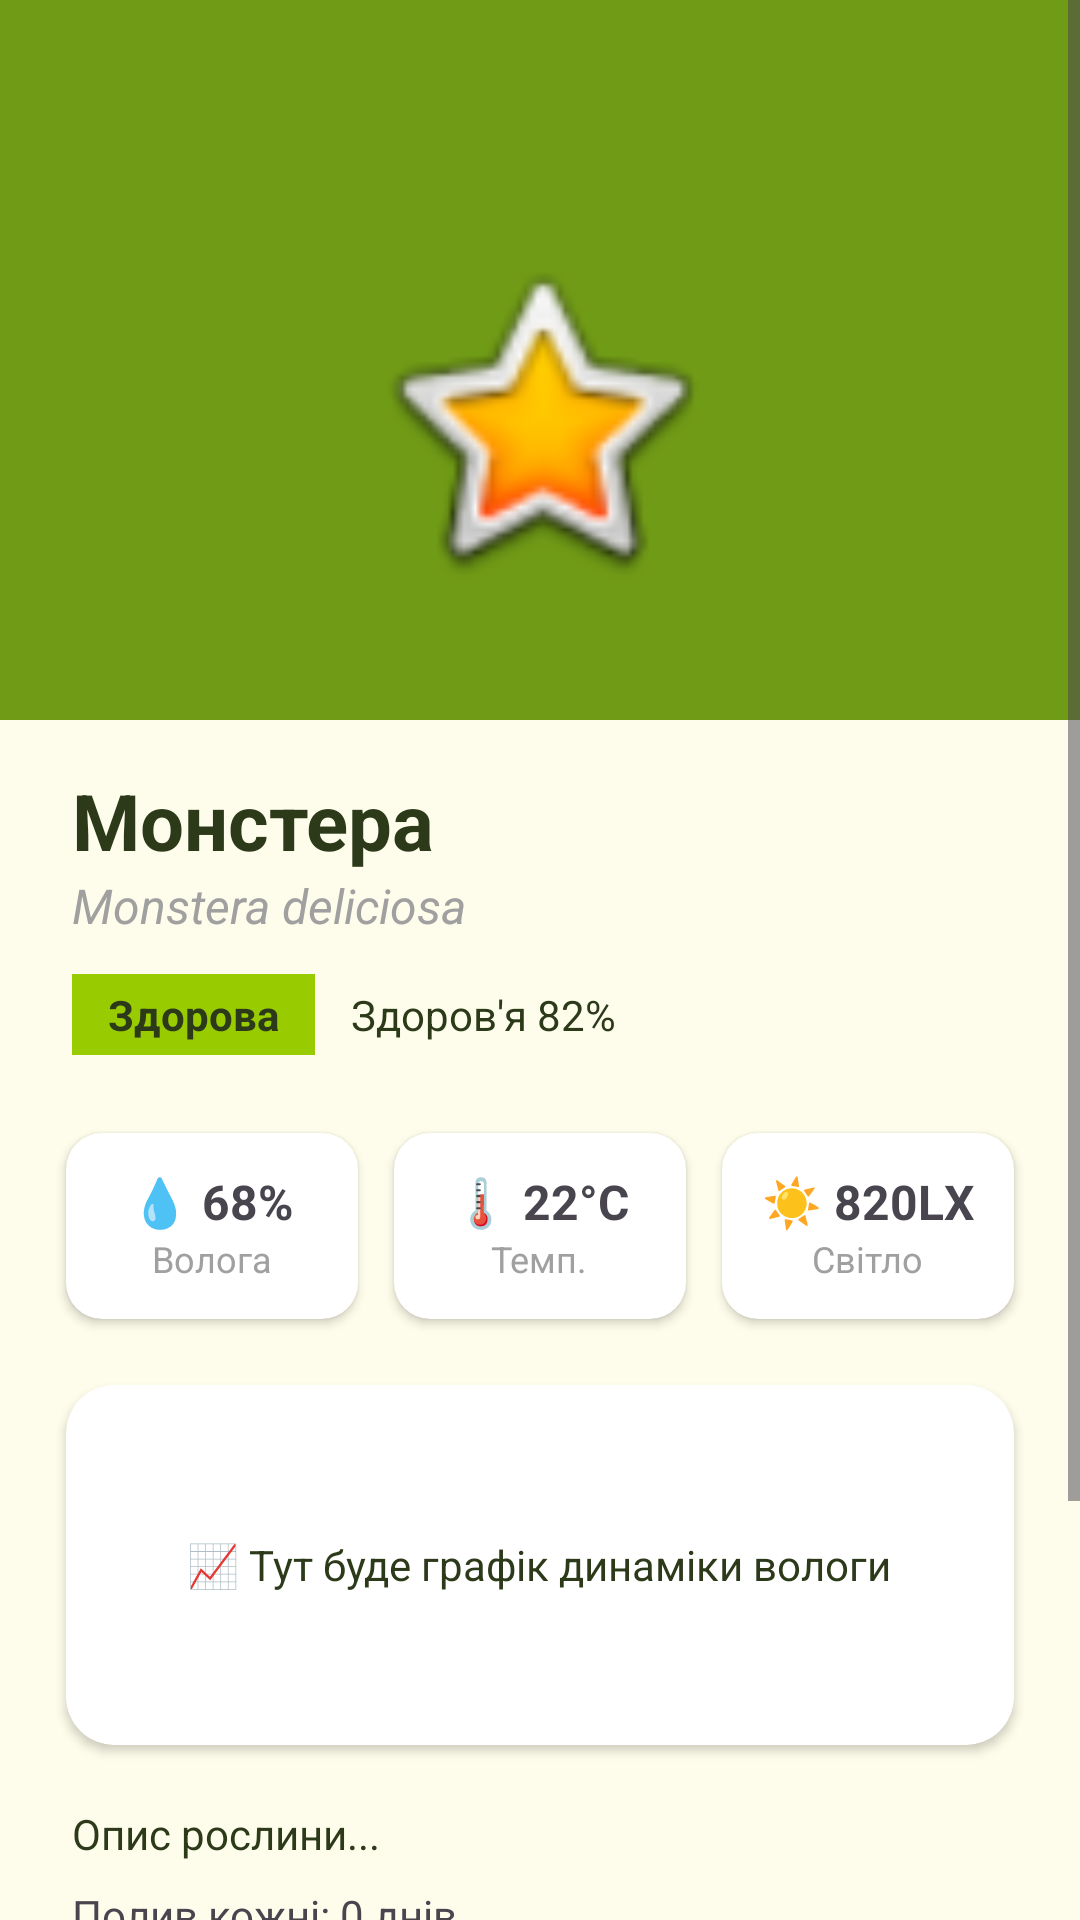

Screen size 1080px×1920px. Icon name, then its center in pixels as (x=x, y=y):
star on: (x=544, y=423)
